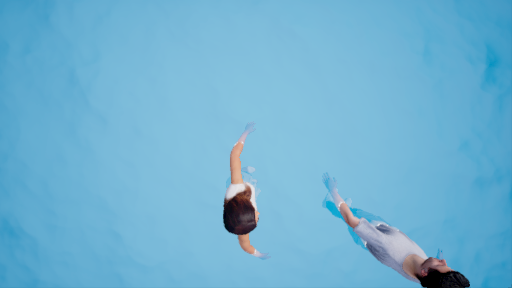person: (311, 173, 472, 288), (217, 119, 275, 260)
